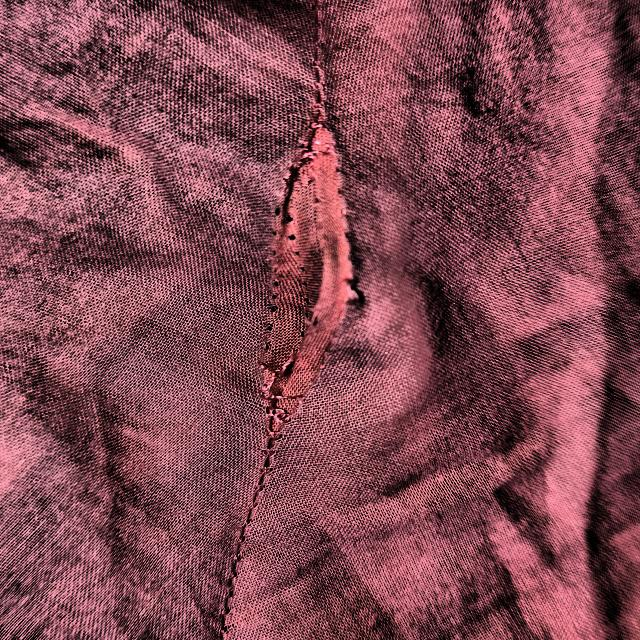seam: (229, 88, 382, 515)
